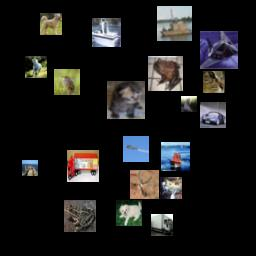airplane: (200, 31, 238, 69), (123, 136, 149, 162), (160, 177, 182, 199)
automobile: (200, 102, 226, 128)
bird: (54, 69, 80, 95)
cat: (107, 81, 145, 119), (203, 71, 225, 93), (181, 96, 197, 112)
deer: (130, 170, 159, 199)
dog: (116, 200, 142, 226), (40, 13, 62, 35)
frog: (148, 56, 183, 91), (64, 200, 96, 232)
ship: (157, 6, 192, 41), (92, 18, 121, 47), (161, 142, 190, 171), (22, 160, 38, 176)
truck: (67, 150, 99, 182), (151, 214, 173, 236)
